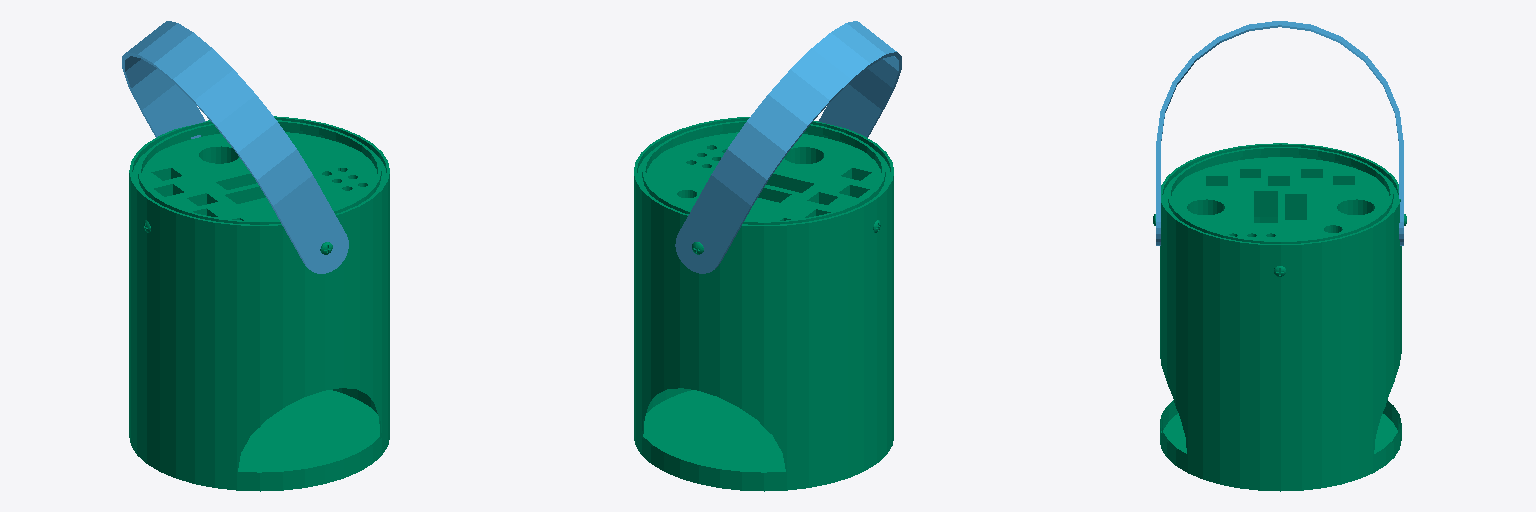
URDF robot description (partnet_1ab577729a8b9b53d7e284c7e9ceac71):
<?xml version="1.0" ?>
<robot name="partnet_1ab577729a8b9b53d7e284c7e9ceac71">
	<link name="base"/>
	<link name="link_0">
		<visual name="handle-2">
			<origin xyz="-0.478825 -0.2805486481273197 0.027989894881555084"/>
			<geometry>
				<mesh filename="textured_objs/original-7.obj"/>
			</geometry>
		</visual>
		<collision>
			<origin xyz="-0.478825 -0.2805486481273197 0.027989894881555084"/>
			<geometry>
				<mesh filename="textured_objs/original-7.obj"/>
			</geometry>
		</collision>
	</link>
	<joint name="joint_0" type="revolute">
		<origin xyz="0.478825 0.2805486481273197 -0.027989894881555084"/>
		<axis xyz="-1 0 0"/>
		<child link="link_0"/>
		<parent link="link_1"/>
		<limit lower="-1.8849555921538759" upper="2.8274333882308134"/>
	</joint>
	<link name="link_1">
		<visual name="base_body-3">
			<origin xyz="0 0 0"/>
			<geometry>
				<mesh filename="textured_objs/original-4.obj"/>
			</geometry>
		</visual>
		<visual name="base_body-3">
			<origin xyz="0 0 0"/>
			<geometry>
				<mesh filename="textured_objs/original-3.obj"/>
			</geometry>
		</visual>
		<visual name="base_body-3">
			<origin xyz="0 0 0"/>
			<geometry>
				<mesh filename="textured_objs/original-2.obj"/>
			</geometry>
		</visual>
		<visual name="base_body-3">
			<origin xyz="0 0 0"/>
			<geometry>
				<mesh filename="textured_objs/original-5.obj"/>
			</geometry>
		</visual>
		<visual name="base_body-3">
			<origin xyz="0 0 0"/>
			<geometry>
				<mesh filename="textured_objs/original-6.obj"/>
			</geometry>
		</visual>
		<visual name="base_body-3">
			<origin xyz="0 0 0"/>
			<geometry>
				<mesh filename="textured_objs/original-1.obj"/>
			</geometry>
		</visual>
		<collision>
			<origin xyz="0 0 0"/>
			<geometry>
				<mesh filename="textured_objs/original-4.obj"/>
			</geometry>
		</collision>
		<collision>
			<origin xyz="0 0 0"/>
			<geometry>
				<mesh filename="textured_objs/original-3.obj"/>
			</geometry>
		</collision>
		<collision>
			<origin xyz="0 0 0"/>
			<geometry>
				<mesh filename="textured_objs/original-2.obj"/>
			</geometry>
		</collision>
		<collision>
			<origin xyz="0 0 0"/>
			<geometry>
				<mesh filename="textured_objs/original-5.obj"/>
			</geometry>
		</collision>
		<collision>
			<origin xyz="0 0 0"/>
			<geometry>
				<mesh filename="textured_objs/original-6.obj"/>
			</geometry>
		</collision>
		<collision>
			<origin xyz="0 0 0"/>
			<geometry>
				<mesh filename="textured_objs/original-1.obj"/>
			</geometry>
		</collision>
	</link>
	<joint name="joint_1" type="fixed">
		<origin rpy="1.570796326794897 0 -1.570796326794897" xyz="0 0 0"/>
		<child link="link_1"/>
		<parent link="base"/>
	</joint>
</robot>

--- What the picture shows (computed from the rendered views, not written in the file) ---
The picture shows the robot from 3 angles, left to right: view 1: azimuth 30°, elevation 25°; view 2: azimuth 150°, elevation 25°; view 3: azimuth 270°, elevation 25°; orthographic projection.
Model partnet_1ab577729a8b9b53d7e284c7e9ceac71 with 3 links and 2 joints (1 revolute, 1 fixed), rooted at base, posed all joints at 0.
Links seen in each view (by area): view 1: link_1, link_0; view 2: link_1, link_0; view 3: link_1, link_0.
Boxes of the visible links, x1,y1,x2,y2 form: link_1: (129,116,389,491); link_0: (122,21,348,273); link_1: (634,117,893,491); link_0: (675,21,901,273); link_1: (1153,143,1406,491); link_0: (1156,21,1403,245).
Size in the robot's own frame: 0.9233 by 0.9546 by 1.61 metres.
Meshes: 7 distinct files referenced, 7 mesh visuals loaded (7 OBJ).
